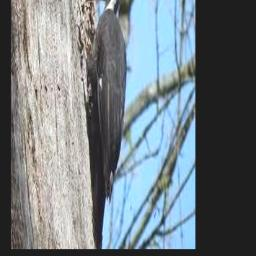Woodpecker: (84, 0, 133, 202)
